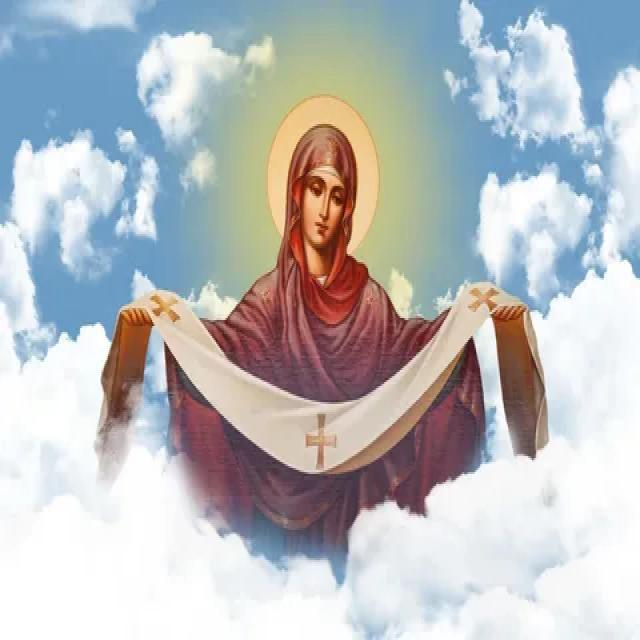mother of god: (94, 118, 550, 586)
